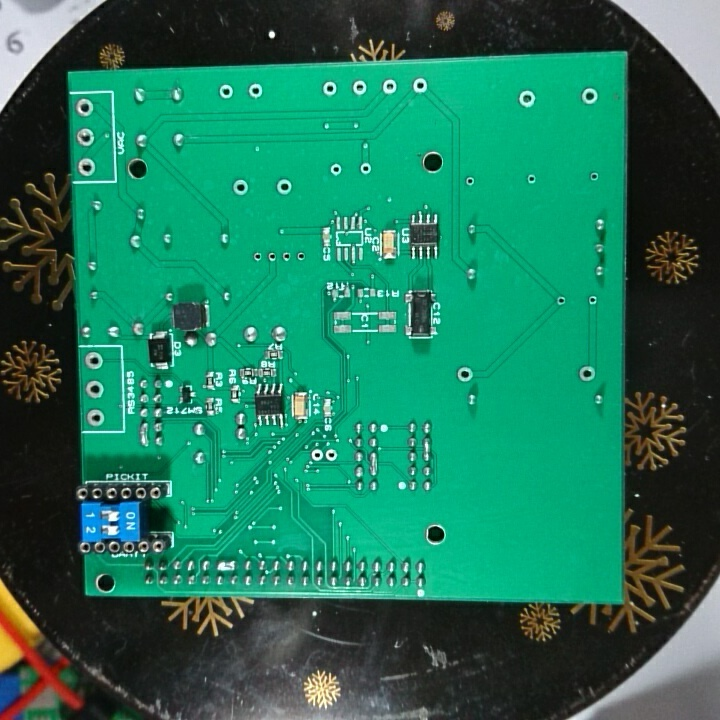F: (514, 88, 538, 111), (83, 378, 105, 402), (82, 350, 104, 374), (76, 155, 98, 178), (75, 126, 97, 149), (454, 363, 475, 386), (230, 176, 251, 199), (409, 75, 429, 98), (578, 86, 599, 107), (577, 363, 597, 385), (274, 176, 294, 198), (85, 407, 105, 428), (217, 80, 236, 102), (349, 78, 369, 98), (245, 81, 265, 100), (320, 79, 339, 99), (76, 98, 94, 118), (380, 77, 398, 97), (326, 161, 345, 178), (553, 293, 569, 312), (324, 446, 339, 466), (586, 168, 602, 184), (358, 160, 372, 178), (309, 447, 324, 463), (584, 294, 602, 307), (251, 250, 265, 266), (295, 249, 307, 267), (525, 173, 539, 187), (463, 173, 475, 189), (280, 249, 293, 263), (266, 249, 278, 264)
P: (419, 435, 436, 462), (138, 421, 152, 449), (367, 450, 380, 478), (215, 558, 237, 574)
